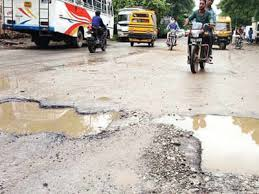pothole: (154, 111, 259, 184), (1, 97, 130, 143)
